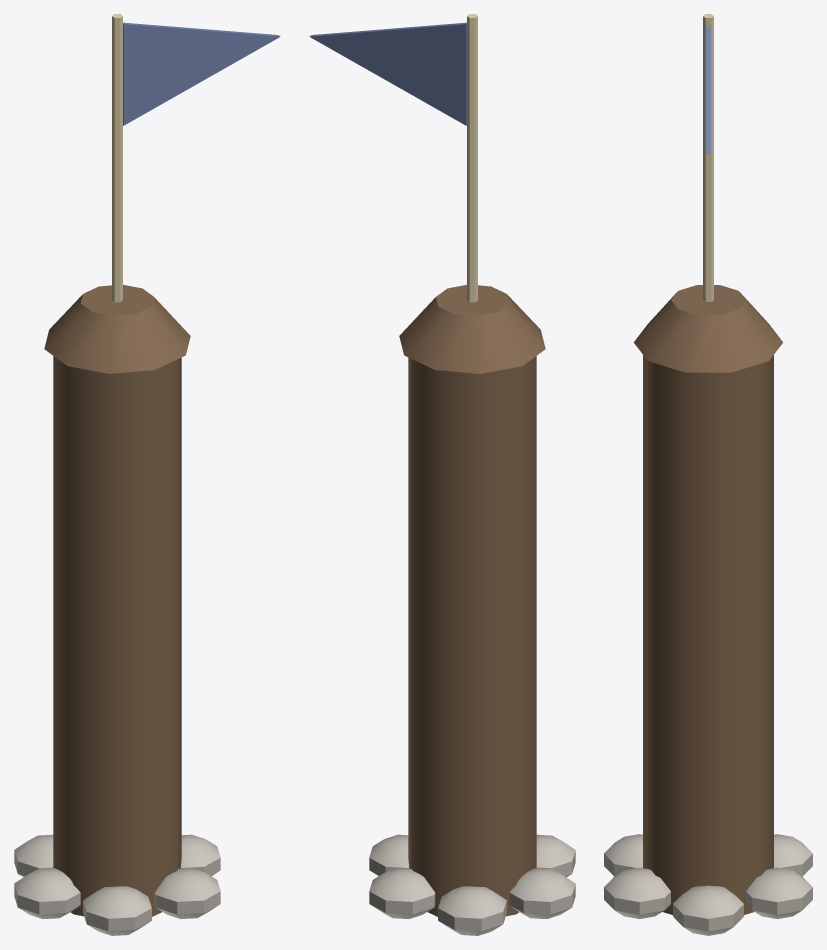
The model's file is Bentengan_Fort_Indigo.fbx.
3 views of the same model, side by side, from view 1: azimuth 30°, elevation 25°; view 2: azimuth 150°, elevation 25°; view 3: azimuth 270°, elevation 25° (orthographic).
Visible parts, largest first — view 1: Bentengan_Fort_Indigo; view 2: Bentengan_Fort_Indigo; view 3: Bentengan_Fort_Indigo.
Boxes of the visible parts, box(x1,y1,x2,y2) form: Bentengan_Fort_Indigo: box(14, 14, 280, 935); Bentengan_Fort_Indigo: box(309, 14, 575, 935); Bentengan_Fort_Indigo: box(604, 14, 812, 935).
Size of the model in its own units: 0.6461 by 2.08 by 0.4466.
